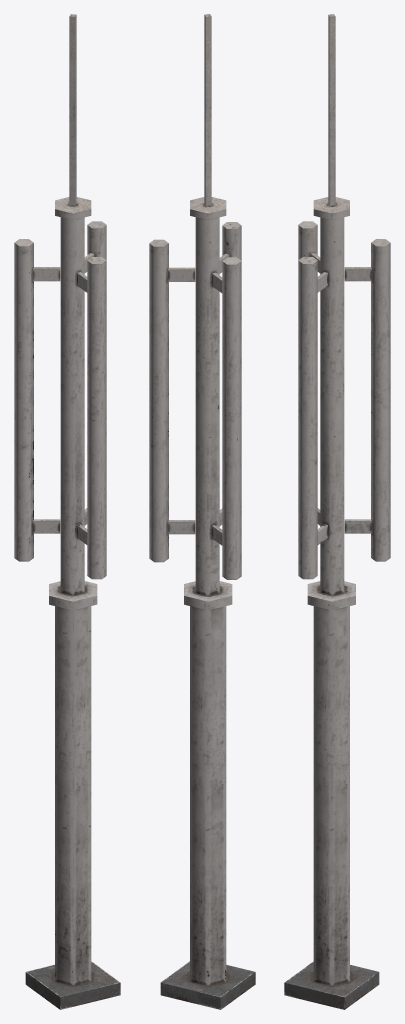
Rendered from antennaA.fbx.
3 renders of one model, left to right at view 1: azimuth 30°, elevation 25°; view 2: azimuth 150°, elevation 25°; view 3: azimuth 330°, elevation 25°, orthographic.
Parts seen in each view (by area): view 1: antennaA; view 2: antennaA; view 3: antennaA.
Part boxes in pixels (box(x1,y1,x2,y2)): antennaA: box(14, 14, 120, 1009); antennaA: box(149, 14, 255, 1009); antennaA: box(284, 14, 390, 1009).
Bounding box in the file's own units: 72.57 × 772 × 66.35.
1 material, 1 textured.
